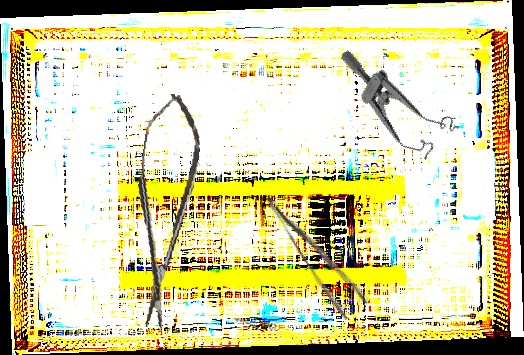Dressing Forceps: (262, 180, 371, 322)
Micro Scissor: (118, 91, 208, 331)
Speculum: (317, 49, 466, 167)
